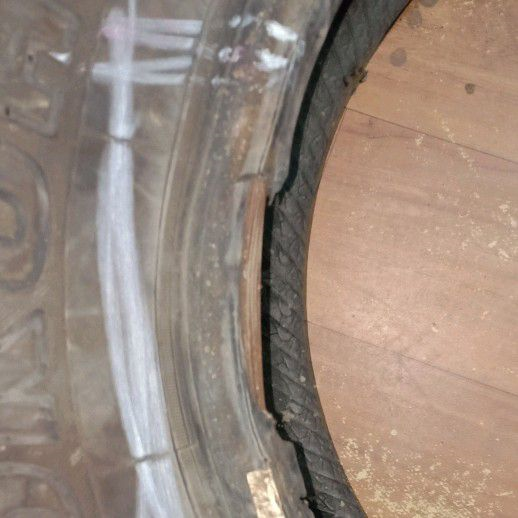bead_damage: (222, 1, 397, 513)
